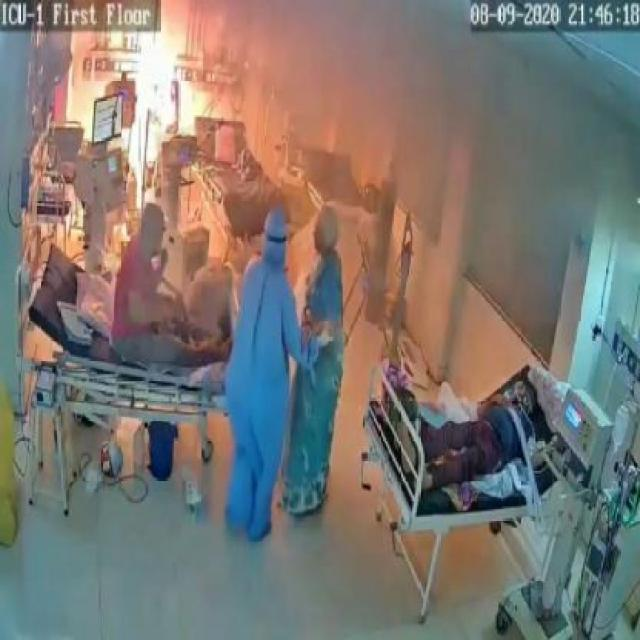fire: (112, 24, 198, 161)
smoke: (223, 9, 640, 232)
